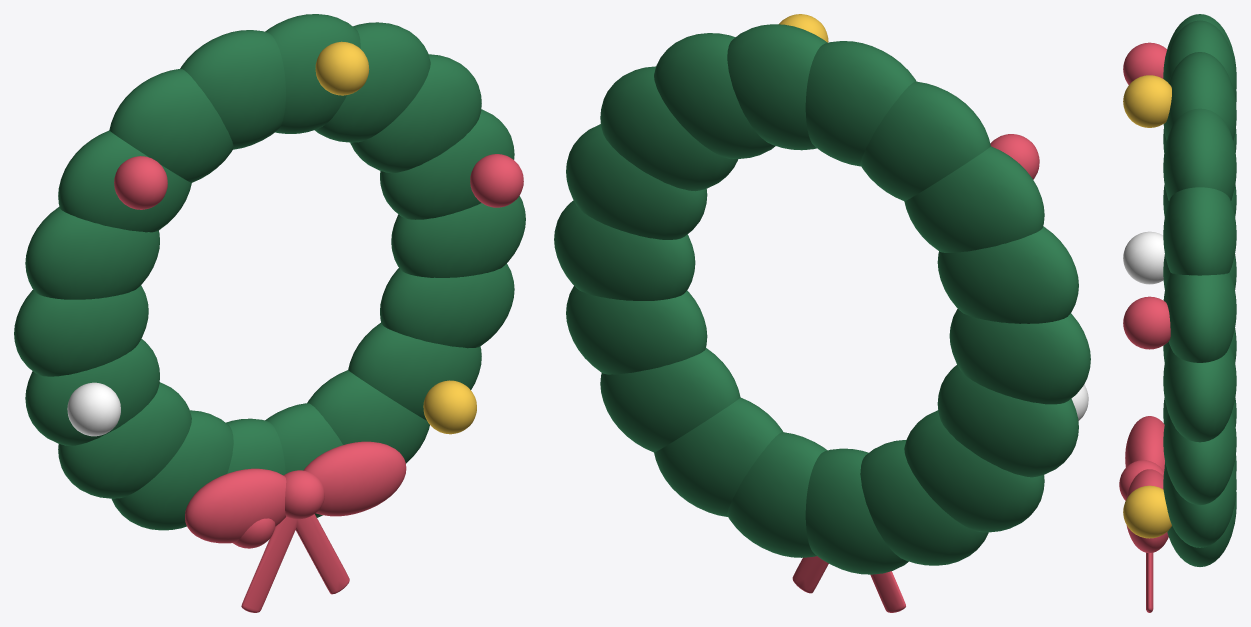
Rendered from deco_corona_navidad.glb.
3 views of the same model, side by side, from view 1: azimuth 30°, elevation 25°; view 2: azimuth 150°, elevation 25°; view 3: azimuth 270°, elevation 25° (orthographic). The views are drawn at different scales.
Visible parts, largest first — view 1: rama corona 8.001, rama corona 9.001, rama corona 6.001, rama corona 17.001, rama corona 5.001, rama corona 11.001, rama corona 0.001, rama corona 2.001, rama corona 3.001, rama corona 7.001, rama corona 16.001, rama corona 1.001 (+17 smaller); view 2: rama corona 8.001, rama corona 7.001, rama corona 9.001, rama corona 6.001, rama corona 10.001, rama corona 0.001, rama corona 17.001, rama corona 5.001, rama corona 1.001, rama corona 11.001, rama corona 16.001, rama corona 4.001 (+9 smaller); view 3: rama corona 2.001, rama corona 1.001, rama corona 0.001, rama corona 3.001, rama corona 17.001, rama corona 4.001, rama corona 16.001, rama corona 5.001, bolita corona 1.001, bolita corona 0.001, bolita corona 5.001, bolita corona 3.001 (+10 smaller).
Boxes of the visible parts, x1,y1,x2,y2 form: rama corona 8.001: (25,206,159,299); rama corona 9.001: (14,285,148,376); rama corona 6.001: (109,69,233,182); rama corona 17.001: (380,263,514,348); rama corona 5.001: (180,30,285,149); rama corona 11.001: (58,382,191,498); rama corona 0.001: (391,196,525,277); rama corona 2.001: (350,54,481,173); rama corona 3.001: (314,22,430,142); rama corona 7.001: (58,130,191,232); rama corona 16.001: (348,322,481,420); rama corona 1.001: (380,109,514,219); rama corona 8.001: (937,226,1078,323); rama corona 7.001: (904,146,1044,252); rama corona 9.001: (949,309,1090,404); rama corona 6.001: (860,81,990,201); rama corona 10.001: (937,365,1078,477); rama corona 0.001: (554,200,695,300); rama corona 17.001: (566,286,707,374); rama corona 5.001: (805,41,916,166); rama corona 1.001: (566,124,707,239); rama corona 11.001: (904,410,1044,532); rama corona 16.001: (600,348,740,452); rama corona 4.001: (727,24,827,150); rama corona 2.001: (1163,187,1236,275); rama corona 1.001: (1163,272,1236,362); rama corona 0.001: (1163,345,1236,442); rama corona 3.001: (1163,108,1236,200); rama corona 17.001: (1163,412,1236,505); rama corona 4.001: (1163,52,1236,140); rama corona 16.001: (1163,463,1236,547); rama corona 5.001: (1163,20,1236,99); bolita corona 1.001: (1123,75,1171,127); bolita corona 0.001: (1123,296,1170,349); bolita corona 5.001: (1123,485,1171,538); bolita corona 3.001: (1123,231,1164,284).
Size of the model in its own units: 0.4568 by 0.4815 by 0.0934.
